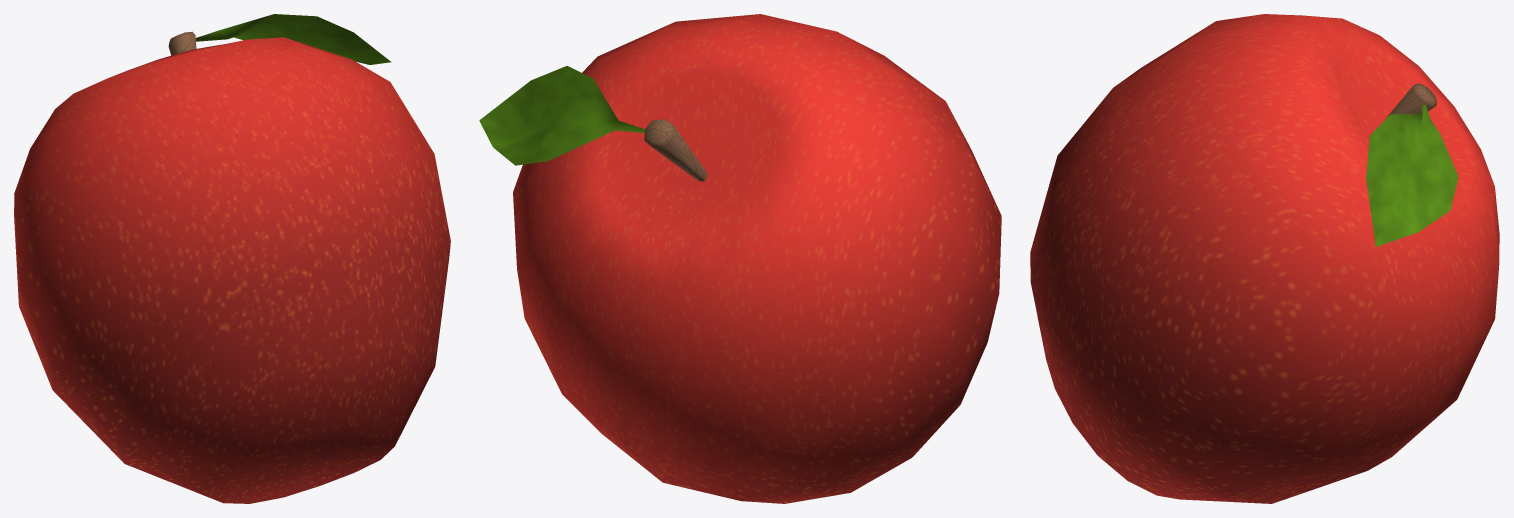
File: apple.glb
3 renders of one model, left to right at view 1: azimuth 30°, elevation 25°; view 2: azimuth 150°, elevation 25°; view 3: azimuth 270°, elevation 25°, orthographic. The views are drawn at different scales.
Parts seen in each view (by area): view 1: Object_8, Object_10, Object_12; view 2: Object_8, Object_10, Object_12; view 3: Object_8, Object_10, Object_12.
Boxes of the visible parts, x1,y1,x2,y2 form: Object_8: [14, 37, 450, 503]; Object_10: [195, 14, 391, 64]; Object_12: [168, 31, 196, 55]; Object_8: [513, 14, 1001, 503]; Object_10: [479, 66, 644, 165]; Object_12: [644, 119, 707, 181]; Object_8: [1030, 14, 1499, 503]; Object_10: [1366, 103, 1458, 246]; Object_12: [1385, 83, 1436, 119].
Size of the model in its own units: 1.31 by 1.32 by 1.26.
1 material, 1 textured.
